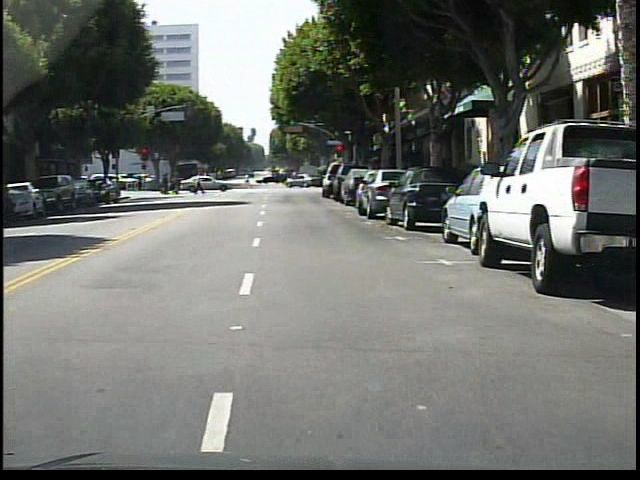person: (195, 167, 215, 196)
